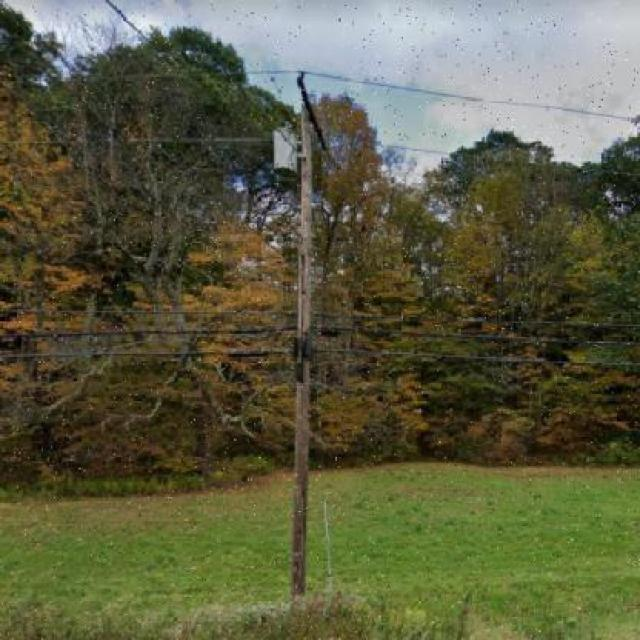pole: (237, 44, 371, 614)
